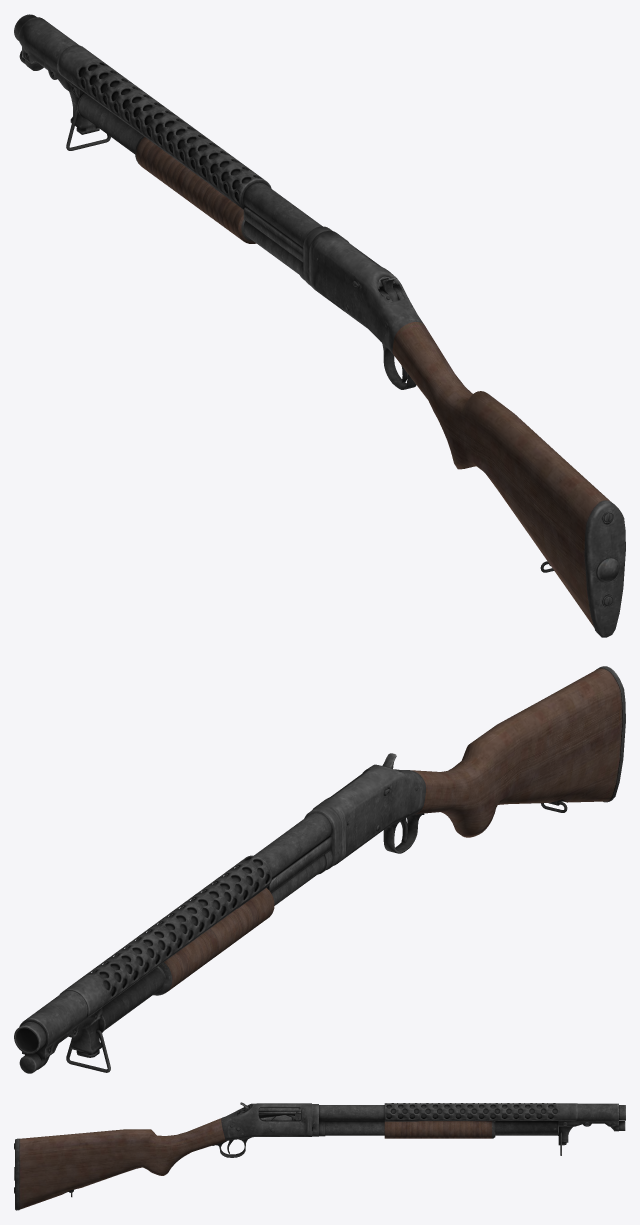
3 views of the same model, one above another, from view 1: azimuth 30°, elevation 25°; view 2: azimuth 150°, elevation 25°; view 3: azimuth 270°, elevation 25° (orthographic). The views are drawn at different scales.
Visible parts, largest first — view 1: S1897_Body, Pump; view 2: S1897_Body, Pump; view 3: S1897_Body, Pump.
Boxes of the visible parts, x1,y1,x2,y2 form: S1897_Body: (14, 14, 625, 637); Pump: (135, 136, 245, 242); S1897_Body: (14, 666, 625, 1073); Pump: (153, 888, 274, 995); S1897_Body: (14, 1102, 625, 1210); Pump: (384, 1121, 495, 1138).
Bounding box in the file's own units: 0.044 × 0.1924 × 1.
Materials: 2 (2 with a texture image).
